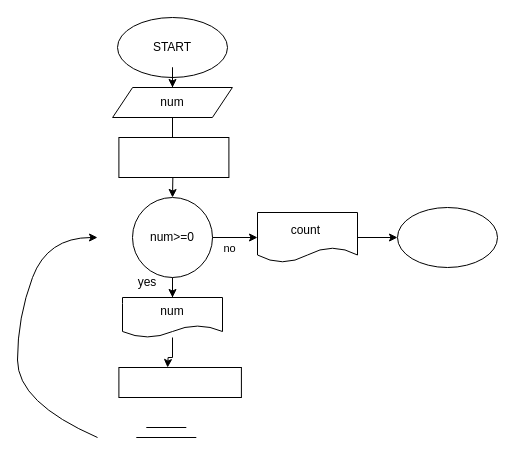
Image size: 515x456. Some labels were removed from this diagram. The box of each missing label's shape, as (x1, y1, x2, y2) in pixels:
count+=1: (118, 366, 241, 398)
count=0: (118, 136, 229, 178)
STOP: (396, 206, 498, 268)
